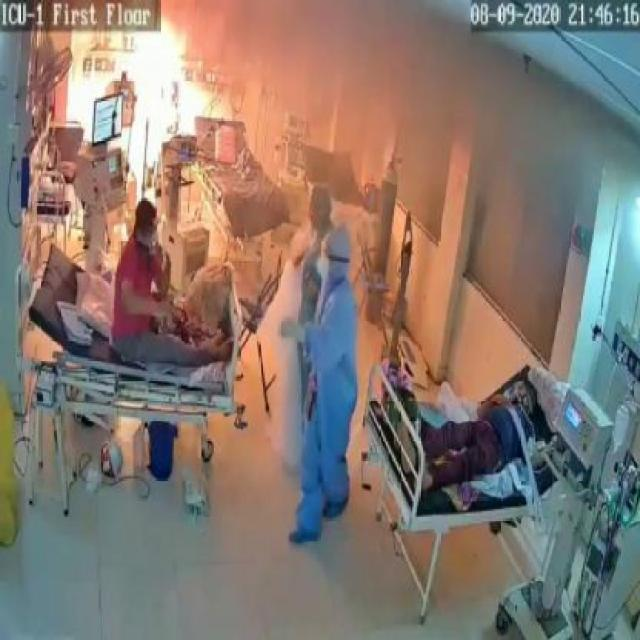fire: (102, 31, 216, 167)
smoke: (227, 4, 630, 218)
